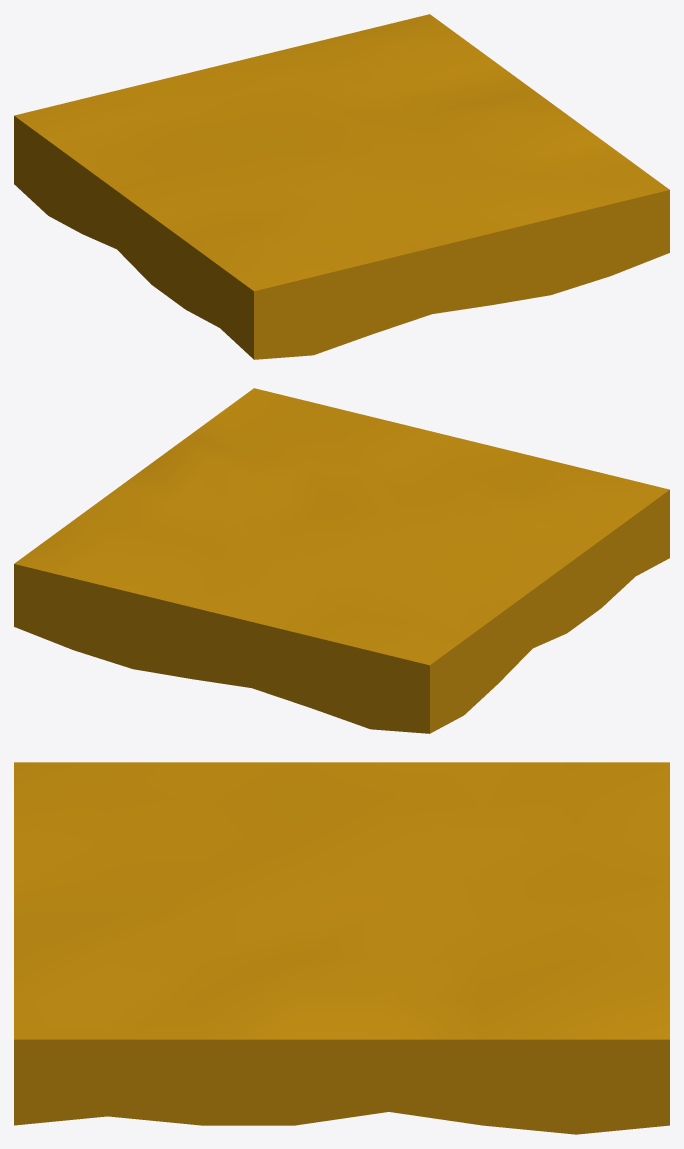
File: sand1(1).fbx
3 renders of one model, top to bottom at view 1: azimuth 30°, elevation 25°; view 2: azimuth 150°, elevation 25°; view 3: azimuth 270°, elevation 25°, orthographic. The views are drawn at different scales.
Visible parts, largest first — view 1: 立方体; view 2: 立方体; view 3: 立方体.
Part boxes in pixels (x1=…): 立方体: x1=14, y1=14, x2=669, y2=359; 立方体: x1=14, y1=388, x2=669, y2=733; 立方体: x1=14, y1=762, x2=669, y2=1134.
Bounding box in the file's own units: 103 × 24.43 × 103.
